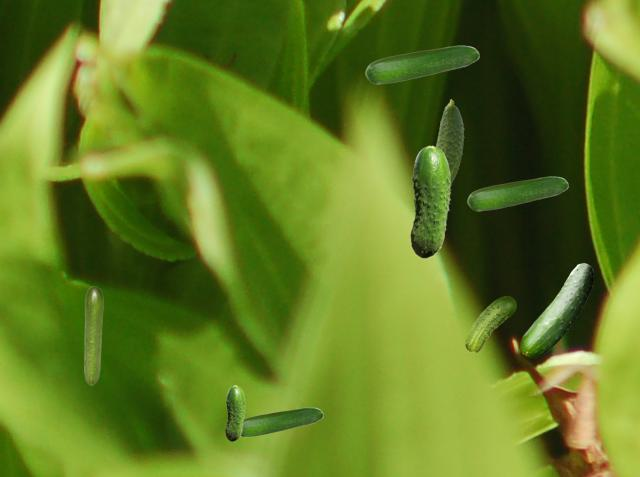cucumber: (520, 263, 592, 356), (410, 145, 450, 257), (365, 45, 478, 83), (467, 176, 567, 210), (465, 296, 515, 351), (435, 99, 463, 187), (241, 407, 322, 436), (84, 286, 102, 384), (225, 385, 244, 440)
